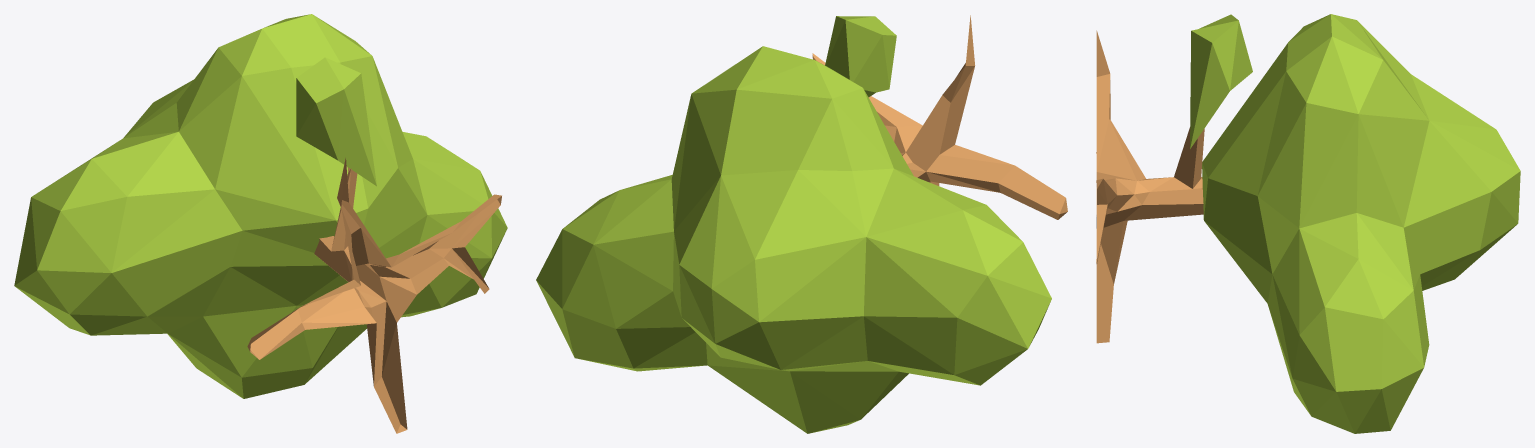
File: Tree2.fbx
3 views of the same model, side by side, from view 1: azimuth 30°, elevation 25°; view 2: azimuth 150°, elevation 25°; view 3: azimuth 270°, elevation 25° (orthographic). The views are drawn at different scales.
Parts seen in each view (by area): view 1: generic_tree_2; view 2: generic_tree_2; view 3: generic_tree_2.
Boxes of the visible parts, box(x1,y1,x2,y2) form: generic_tree_2: box(14, 14, 507, 433); generic_tree_2: box(536, 15, 1067, 433); generic_tree_2: box(1096, 14, 1520, 433).
Bounding box in the file's own units: 677 × 492 × 527.
